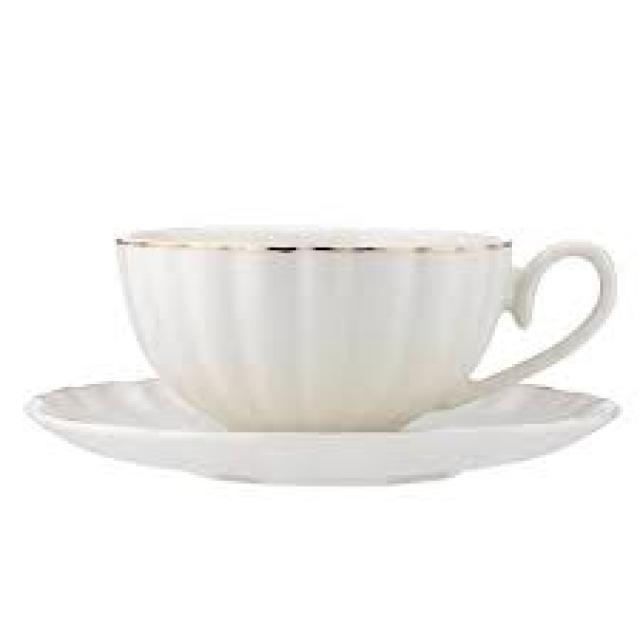taza: (103, 204, 618, 428)
